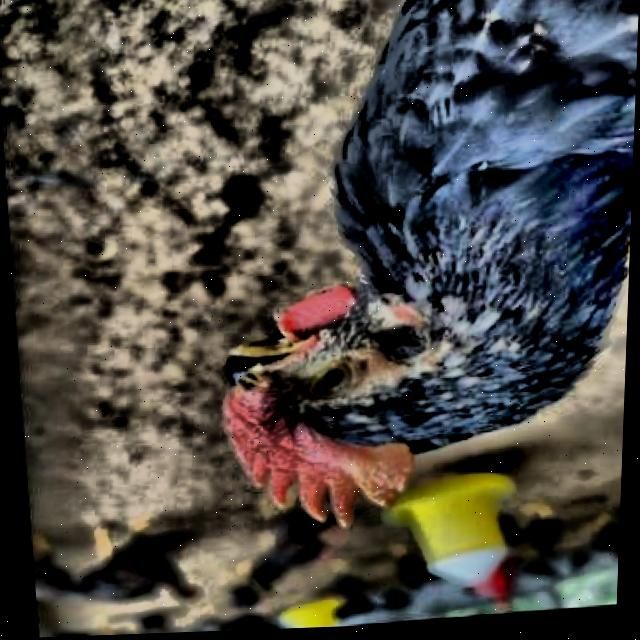Healthy: (289, 360, 384, 418)
